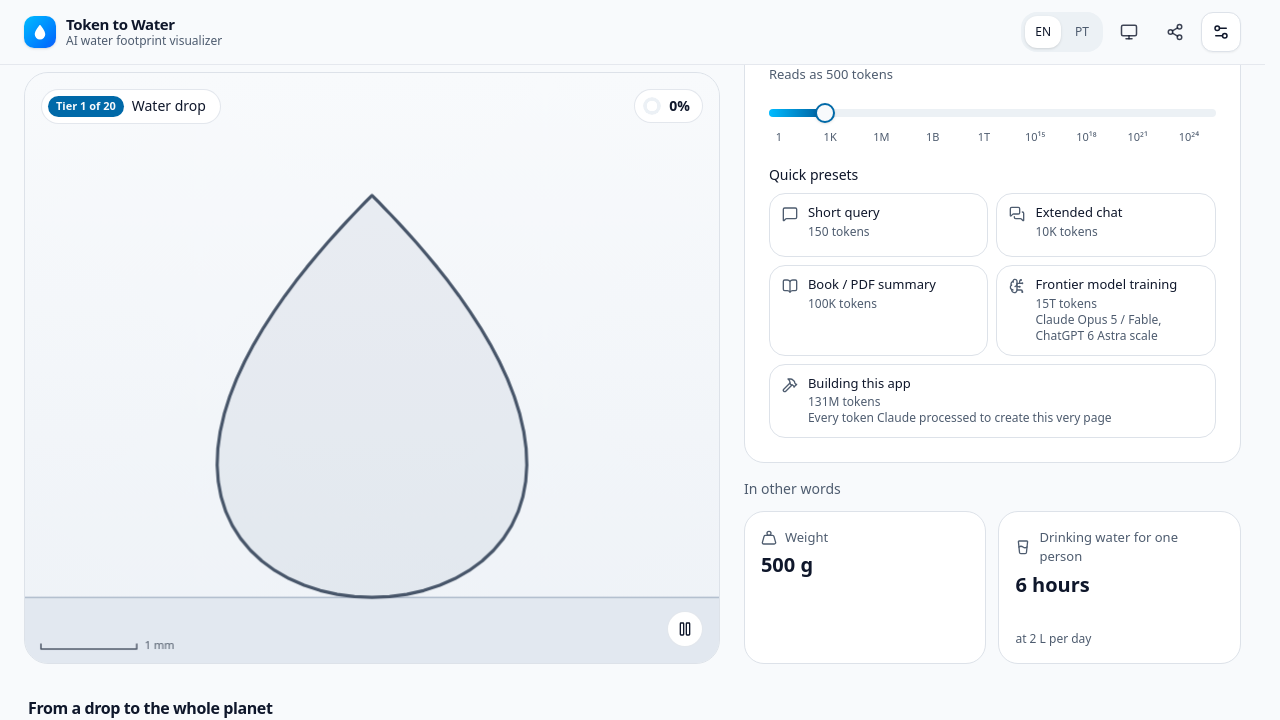
Test: "Building this app" preset › shows what building this app cost in water
(page scrolled)
Step 1. Click the button "Building this app" → (859, 383), box [769,364,1216,438]
(page scrolled)
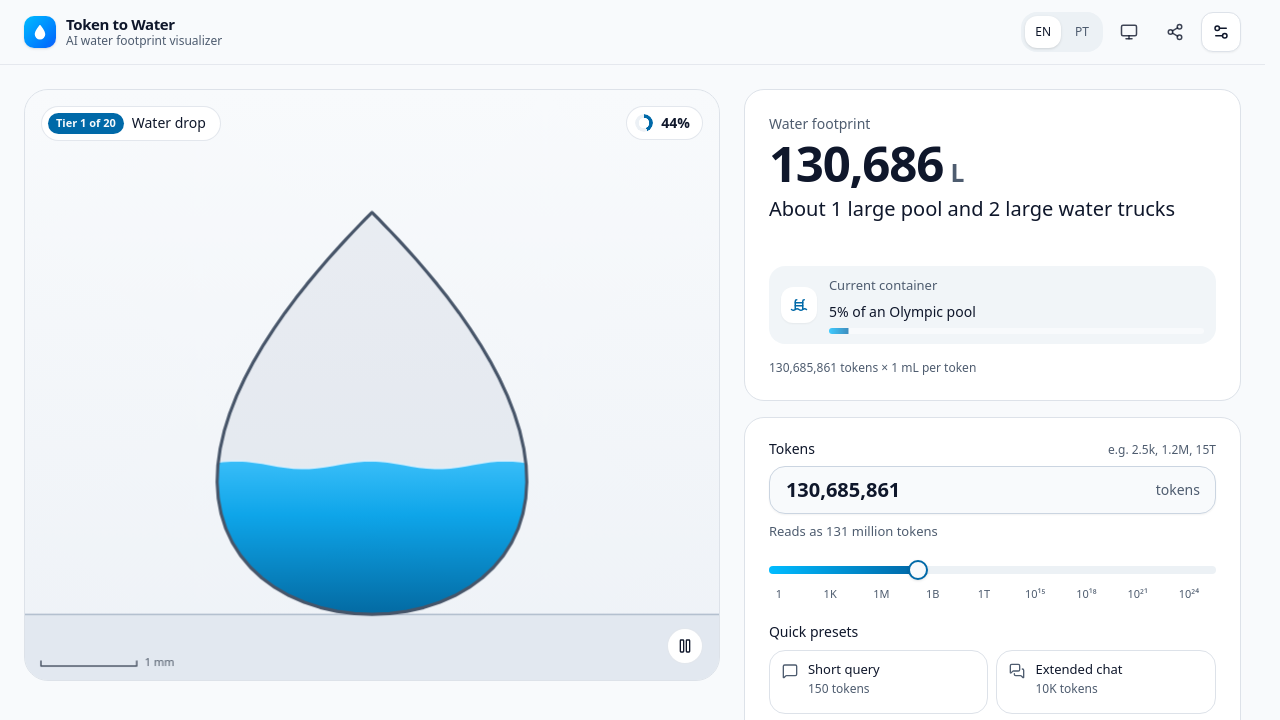
Result: the element with test id "volume" reads "130,686 L" at [769,129,963,196]
Result: the text with test id "fill-line" shows "of an Olympic pool" at [829,302,976,321]
